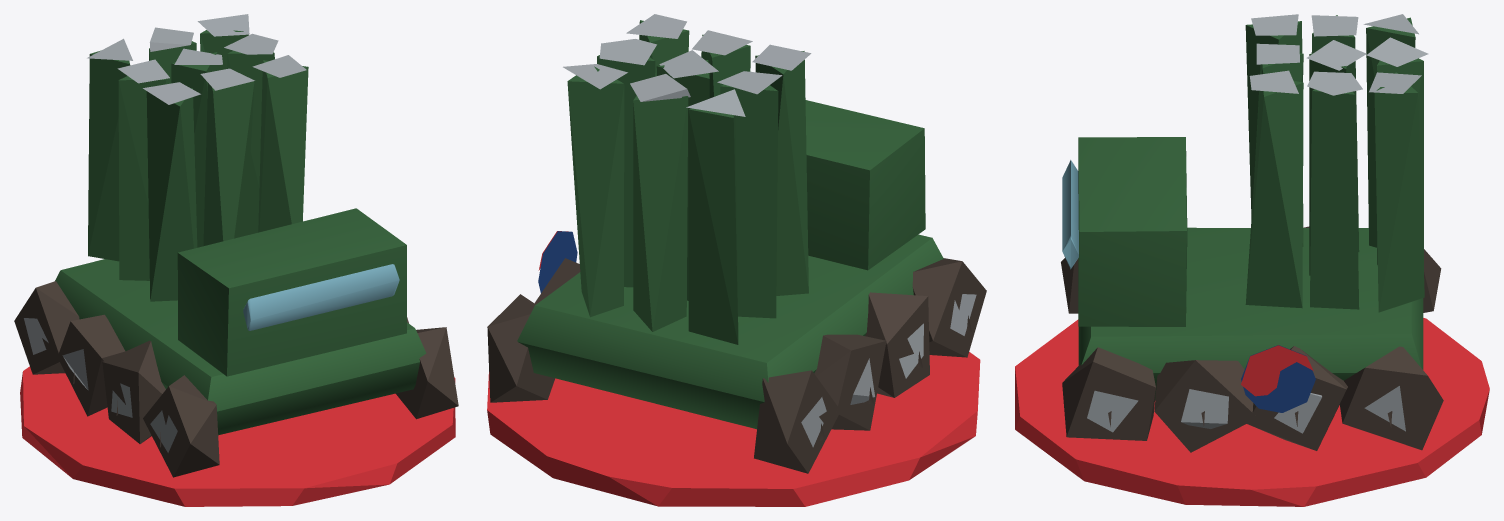
File: south_korea_missile_lod1.glb
3 renders of one model, left to right at view 1: azimuth 30°, elevation 25°; view 2: azimuth 150°, elevation 25°; view 3: azimuth 270°, elevation 25°, orthographic. The views are drawn at different scales.
Parts seen in each view (by area): view 1: body_hull, base_pedestal; view 2: body_hull, base_pedestal; view 3: body_hull, base_pedestal.
Part boxes in pixels (x1=…): body_hull: x1=14, y1=14, x2=458, y2=477; base_pedestal: x1=20, y1=366, x2=455, y2=506; body_hull: x1=487, y1=14, x2=986, y2=473; base_pedestal: x1=487, y1=352, x2=980, y2=506; body_hull: x1=1061, y1=14, x2=1443, y2=452; base_pedestal: x1=1015, y1=318, x2=1489, y2=506.
Size of the model in its own units: 0.7751 by 0.644 by 0.7751.
